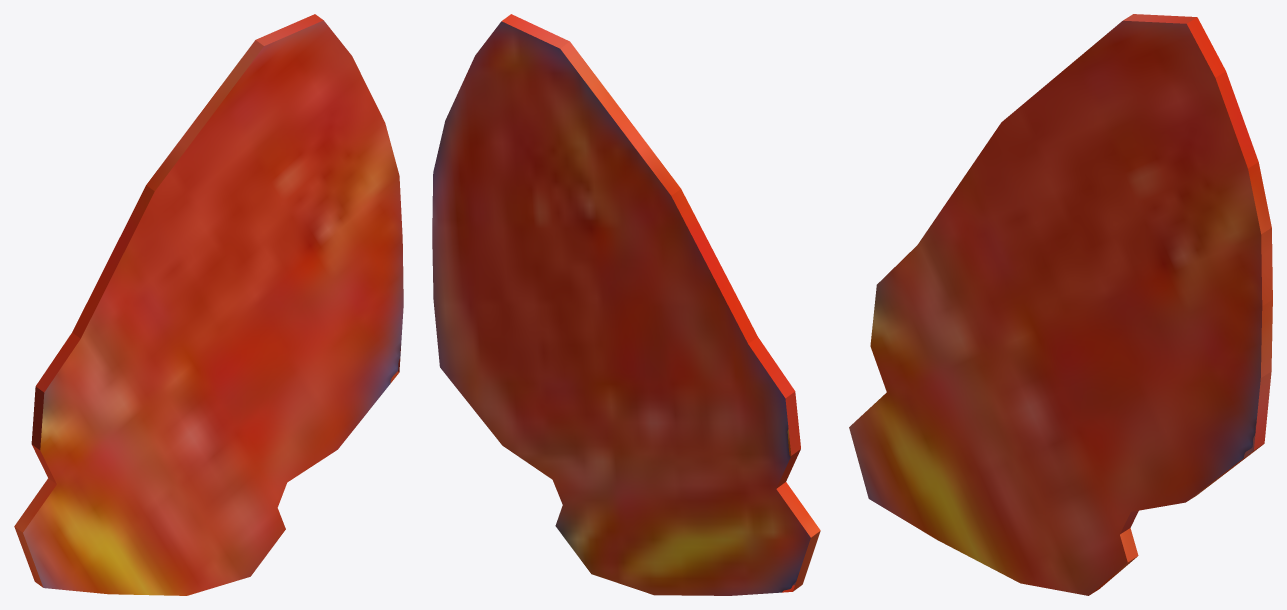
Rendered from Balao4.fbx.
3 views of the same model, side by side, from view 1: azimuth 30°, elevation 25°; view 2: azimuth 150°, elevation 25°; view 3: azimuth 330°, elevation 25° (orthographic). The views are drawn at different scales.
Parts seen in each view (by area): view 1: Circle.008; view 2: Circle.008; view 3: Circle.008.
Part boxes in pixels (left/top/right/bottom): Circle.008: left=14, top=14, right=403, bottom=595; Circle.008: left=432, top=14, right=820, bottom=595; Circle.008: left=849, top=14, right=1272, bottom=595.
Bounding box in the file's own units: 20.45 × 27.8 × 1.67.
1 material, 1 textured.
